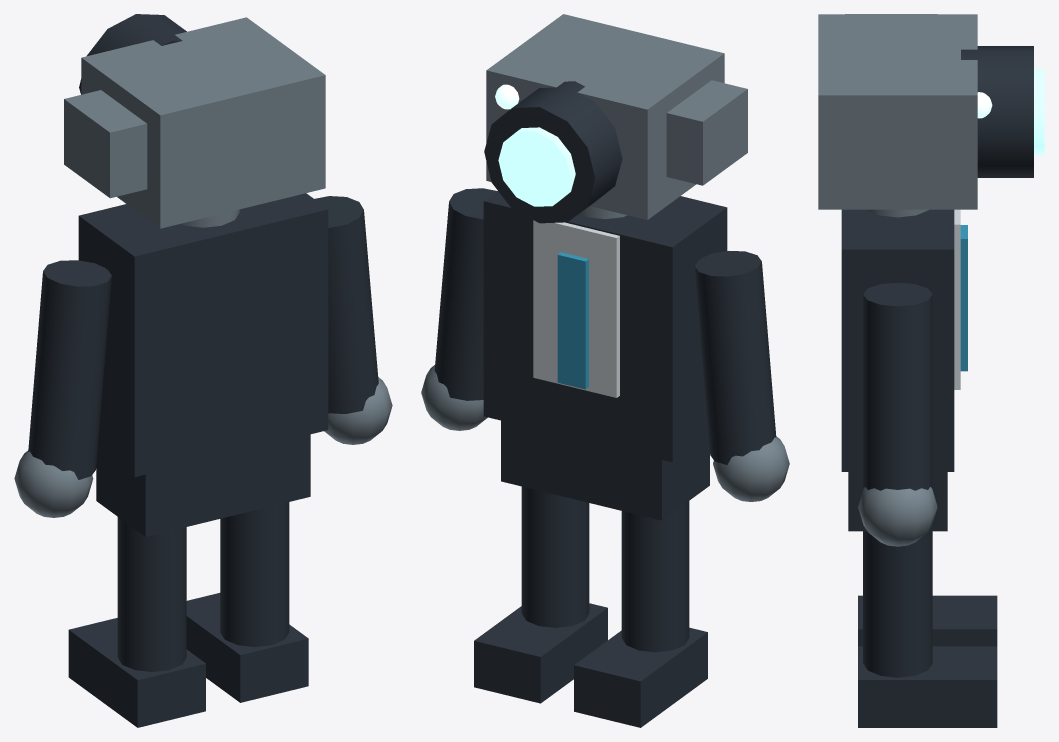
The model's file is porcelain-raider-cameraman-v001.glb.
3 views of the same model, side by side, from view 1: azimuth 30°, elevation 25°; view 2: azimuth 150°, elevation 25°; view 3: azimuth 270°, elevation 25° (orthographic). The views are drawn at different scales.
Visible parts, largest first — view 1: Torso, Housing, LeftArm, Pelvis, LeftLeg, RightArm, RightLeg, LeftShoe, RightShoe, SideModule, LeftHand, RightHand (+1 smaller); view 2: Torso, Housing, LeftArm, Pelvis, ShirtFront, LensHousing, LeftLeg, RightLeg, LeftShoe, RightArm, RightShoe, SideModule (+4 smaller); view 3: Housing, Torso, RightArm, RightShoe, RightLeg, LensHousing, RightHand, LeftShoe, Pelvis, ShirtFront, Tie, Lens (+1 smaller).
Part boxes in pixels (box(x1,y1,x2,y2)): Torso: box(78, 193, 328, 477); Housing: box(81, 17, 325, 228); LeftArm: box(28, 260, 111, 479); Pelvis: box(96, 434, 310, 536); LeftLeg: box(117, 517, 186, 671); RightArm: box(314, 196, 378, 413); RightLeg: box(220, 502, 289, 646); LeftShoe: box(68, 618, 205, 727); RightShoe: box(186, 593, 308, 702); SideModule: box(64, 90, 147, 198); LeftHand: box(14, 450, 93, 517); RightHand: box(324, 377, 392, 444); Torso: box(483, 191, 727, 462); Housing: box(486, 14, 724, 219); LeftArm: box(694, 251, 776, 464); Pelvis: box(501, 420, 709, 520); ShirtFront: box(533, 220, 619, 397); LensHousing: box(484, 81, 622, 223); LeftLeg: box(621, 501, 689, 652); RightLeg: box(521, 486, 589, 627); LeftShoe: box(574, 627, 707, 727); RightArm: box(434, 188, 497, 400); RightShoe: box(474, 603, 607, 703); SideModule: box(666, 80, 747, 185); Housing: box(818, 14, 977, 209); Torso: box(841, 209, 954, 471); RightArm: box(863, 283, 932, 490); RightShoe: box(858, 646, 997, 727); RightLeg: box(863, 531, 932, 677); LensHousing: box(961, 46, 1033, 177); RightHand: box(858, 487, 937, 546); LeftShoe: box(858, 595, 997, 646); Pelvis: box(848, 472, 947, 531); ShirtFront: box(954, 209, 960, 389); Tie: box(960, 225, 967, 371); Lens: box(1034, 69, 1044, 154).
Bounding box in the file's own units: 1.29 × 2.11 × 0.6825.
